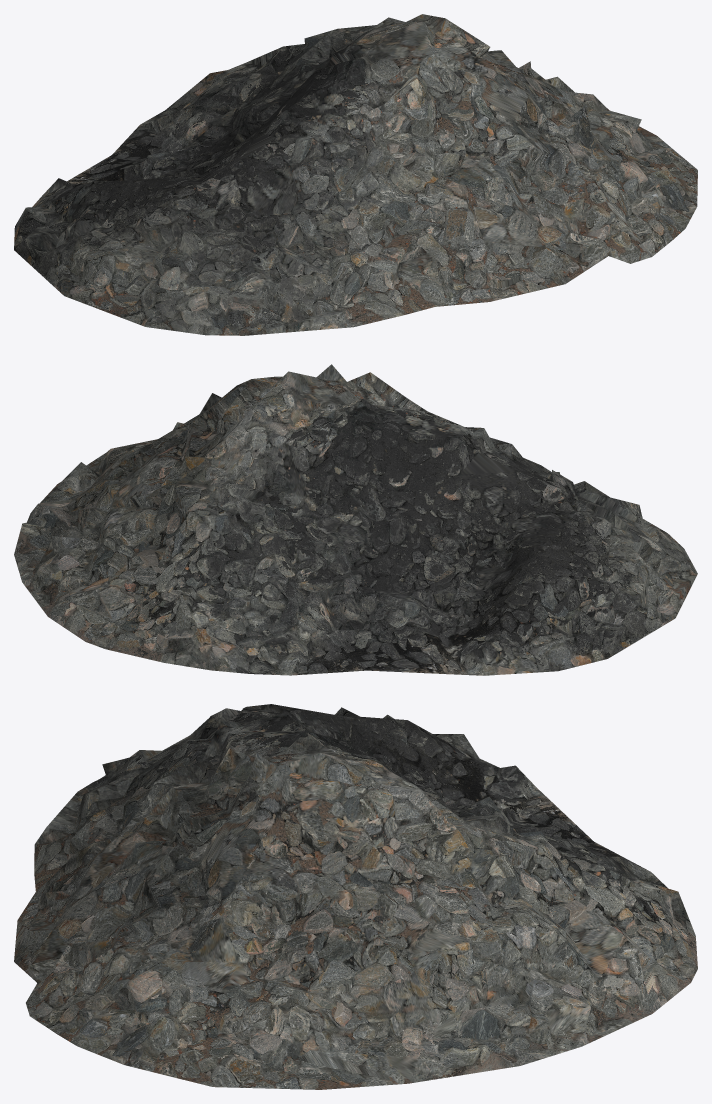
Rendered from SM_Stage_Final_Pile_02.fbx.
3 renders of one model, top to bottom at view 1: azimuth 30°, elevation 25°; view 2: azimuth 150°, elevation 25°; view 3: azimuth 270°, elevation 25°, orthographic. The views are drawn at different scales.
Parts seen in each view (by area): view 1: SM_Stage_Final_Pile_02; view 2: SM_Stage_Final_Pile_02; view 3: SM_Stage_Final_Pile_02.
Part boxes in pixels (x1,y1,x2,y2): SM_Stage_Final_Pile_02: (14, 14, 697, 335); SM_Stage_Final_Pile_02: (14, 364, 697, 675); SM_Stage_Final_Pile_02: (14, 704, 697, 1089).
Bounding box in the file's own units: 215 × 57.81 × 177.
Materials: 1 (1 with a texture image).
